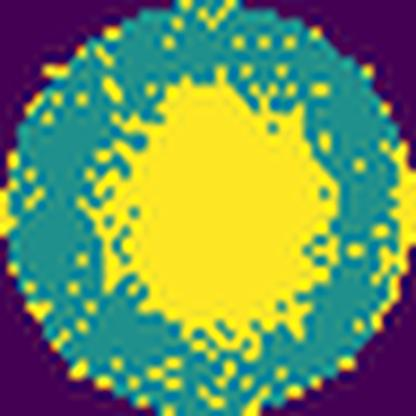Center: (102, 80, 338, 349)
